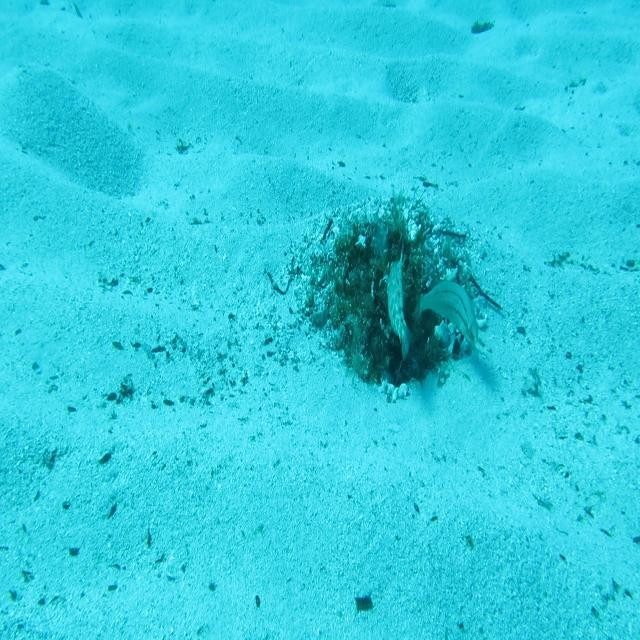core_nest: (359, 236, 409, 290)
nest: (284, 178, 494, 416), (385, 246, 414, 366)
vegetation: (470, 16, 496, 38), (355, 592, 373, 612)
